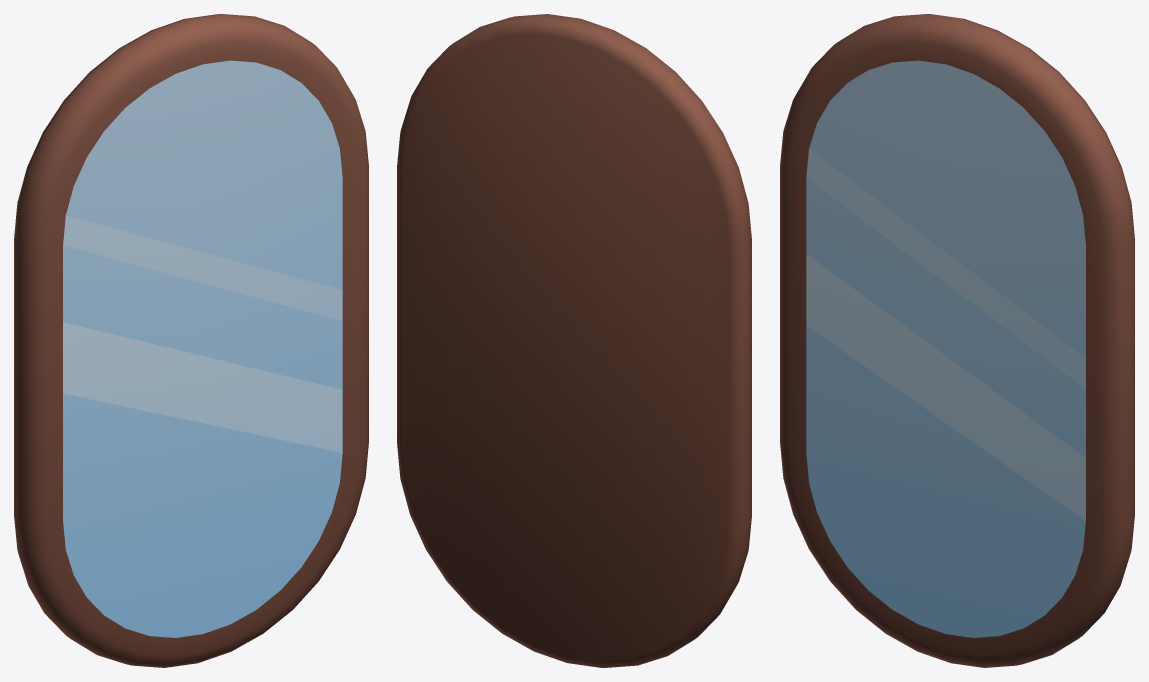
File: Bath_Mirror_05.glb
3 views of the same model, side by side, from view 1: azimuth 30°, elevation 25°; view 2: azimuth 150°, elevation 25°; view 3: azimuth 330°, elevation 25° (orthographic).
Visible parts, largest first — view 1: Bath_Mirror_05; view 2: Bath_Mirror_05; view 3: Bath_Mirror_05.
Part boxes in pixels (left/top/right/bottom): Bath_Mirror_05: left=14, top=14, right=368, bottom=667; Bath_Mirror_05: left=397, top=14, right=751, bottom=667; Bath_Mirror_05: left=780, top=14, right=1134, bottom=667.
Size of the model in its own units: 0.51 by 0.9 by 0.0516.
Materials: 1 (1 with a texture image).
